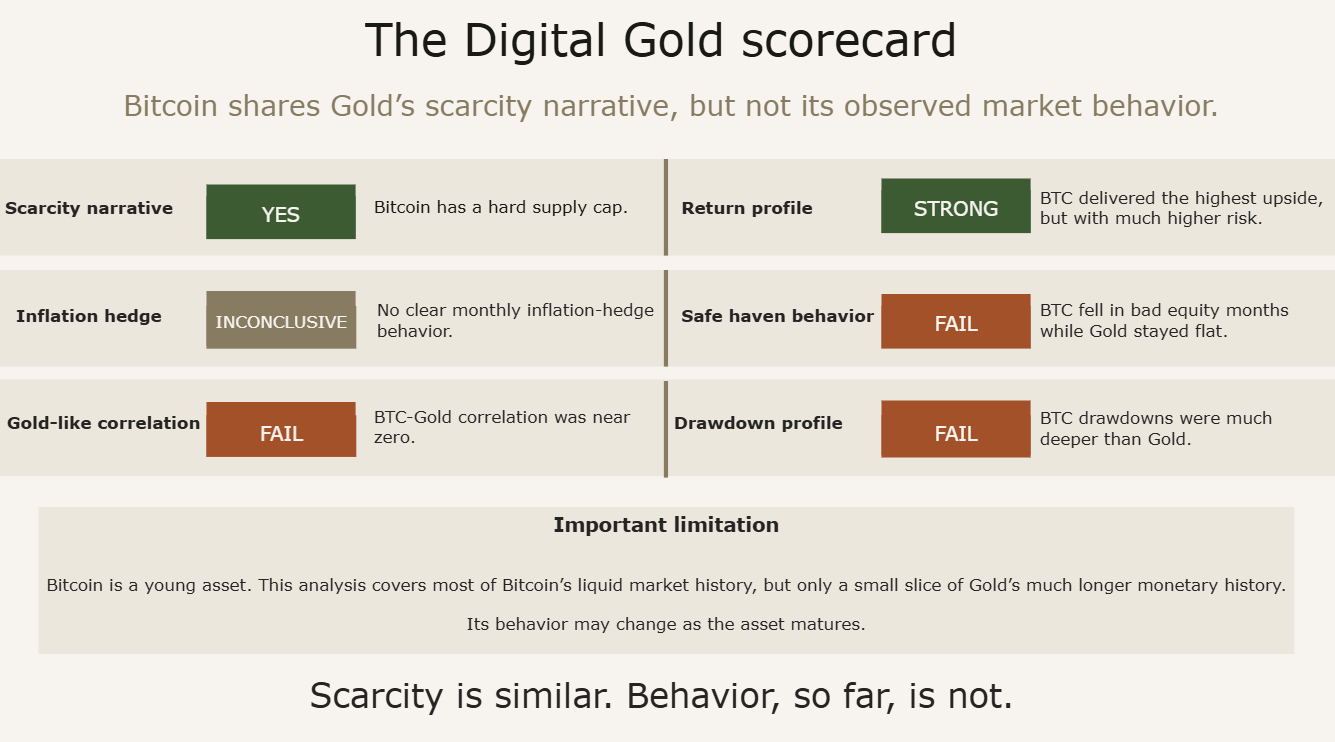

This screenshot's page, from the dashboard's own definition file:
{"tool":"powerbi","page":{"name":"Scorecard","canvas":[1280,720],"ordinal":3},"visuals":[{"type":"textbox","box":[347,14.7,586,72],"z":0},{"type":"textbox","box":[117,86.7,1062,56],"z":1000},{"type":"shape","box":[2,160,1278,92],"z":2000},{"type":"shape","box":[202,184,142,52],"z":3000},{"type":"textbox","box":[202,196,142,40],"z":4000},{"type":"shape","box":[844,178,142,52],"z":5000},{"type":"textbox","box":[844,190,142,40],"z":6000},{"type":"shape","box":[0,266,1278,92],"z":7000},{"type":"shape","box":[202,286,142,52],"z":8000},{"type":"textbox","box":[202,294,142,40],"z":9000},{"type":"shape","box":[0,370,1278,92],"z":10000},{"type":"shape","box":[844,390,142,52],"z":11000},{"type":"textbox","box":[844,404,142,40],"z":12000},{"type":"textbox","box":[2,192,176,40],"z":13000},{"type":"textbox","box":[648,192,176,40],"z":14000},{"type":"textbox","box":[2,294,176,40],"z":15000},{"type":"textbox","box":[648,294,202,40],"z":16000},{"type":"textbox","box":[2,396,204,40],"z":17000},{"type":"textbox","box":[642,396,176,40],"z":18000},{"type":"textbox","box":[990,182,290,50],"z":19000},{"type":"textbox","box":[356,190,256,34],"z":20000},{"type":"textbox","box":[358,288,278,50],"z":21000},{"type":"textbox","box":[990,288,266,50],"z":22000},{"type":"textbox","box":[356,390.7,292,50],"z":23000},{"type":"textbox","box":[990,392,290,50],"z":24000},{"type":"textbox","box":[42,492,1196,140],"z":25000},{"type":"textbox","box":[294,646,692,54],"z":26000},{"type":"shape","box":[202,392,142,52],"z":27000},{"type":"textbox","box":[202,398,142,40],"z":28000},{"type":"shape","box":[630,160,18,92],"z":29000},{"type":"shape","box":[630,266,18,92],"z":30000},{"type":"shape","box":[630,372,18,92],"z":31000},{"type":"shape","box":[844,288,142,52],"z":32000},{"type":"textbox","box":[844,300,142,40],"z":33000}]}

Visuals, with their boxes in screenshot pixels (x1, y1, x2, y2), scaled from the page's 1280x720 canvas onto the 1335x742 screenshot:
textbox: <bbox>362, 15, 973, 89</bbox>
textbox: <bbox>122, 89, 1230, 147</bbox>
shape: <bbox>2, 165, 1334, 260</bbox>
shape: <bbox>211, 190, 359, 243</bbox>
textbox: <bbox>211, 202, 359, 243</bbox>
shape: <bbox>880, 183, 1028, 237</bbox>
textbox: <bbox>880, 196, 1028, 237</bbox>
shape: <bbox>0, 274, 1333, 369</bbox>
shape: <bbox>211, 295, 359, 348</bbox>
textbox: <bbox>211, 303, 359, 344</bbox>
shape: <bbox>0, 381, 1333, 476</bbox>
shape: <bbox>880, 402, 1028, 456</bbox>
textbox: <bbox>880, 416, 1028, 458</bbox>
textbox: <bbox>2, 198, 186, 239</bbox>
textbox: <bbox>676, 198, 859, 239</bbox>
textbox: <bbox>2, 303, 186, 344</bbox>
textbox: <bbox>676, 303, 887, 344</bbox>
textbox: <bbox>2, 408, 215, 449</bbox>
textbox: <bbox>670, 408, 853, 449</bbox>
textbox: <bbox>1033, 188, 1334, 239</bbox>
textbox: <bbox>371, 196, 638, 231</bbox>
textbox: <bbox>373, 297, 663, 348</bbox>
textbox: <bbox>1033, 297, 1310, 348</bbox>
textbox: <bbox>371, 403, 676, 454</bbox>
textbox: <bbox>1033, 404, 1334, 456</bbox>
textbox: <bbox>44, 507, 1291, 651</bbox>
textbox: <bbox>307, 666, 1028, 721</bbox>
shape: <bbox>211, 404, 359, 458</bbox>
textbox: <bbox>211, 410, 359, 451</bbox>
shape: <bbox>657, 165, 676, 260</bbox>
shape: <bbox>657, 274, 676, 369</bbox>
shape: <bbox>657, 383, 676, 478</bbox>
shape: <bbox>880, 297, 1028, 350</bbox>
textbox: <bbox>880, 309, 1028, 350</bbox>
